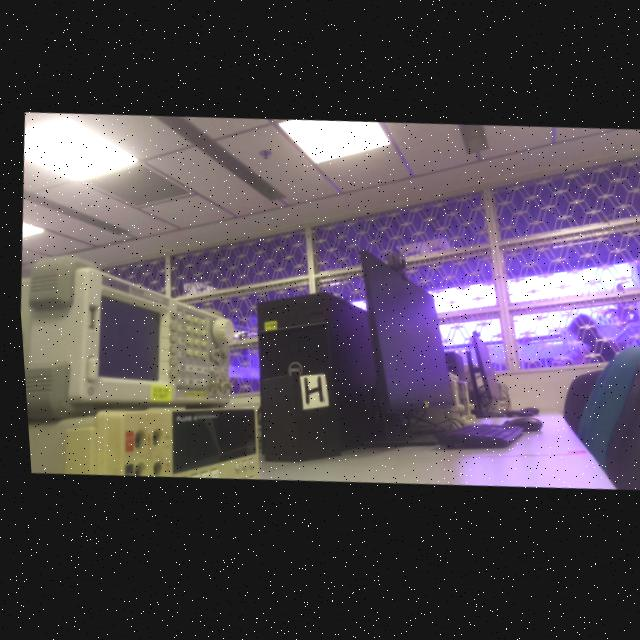H: (299, 381, 317, 408)
